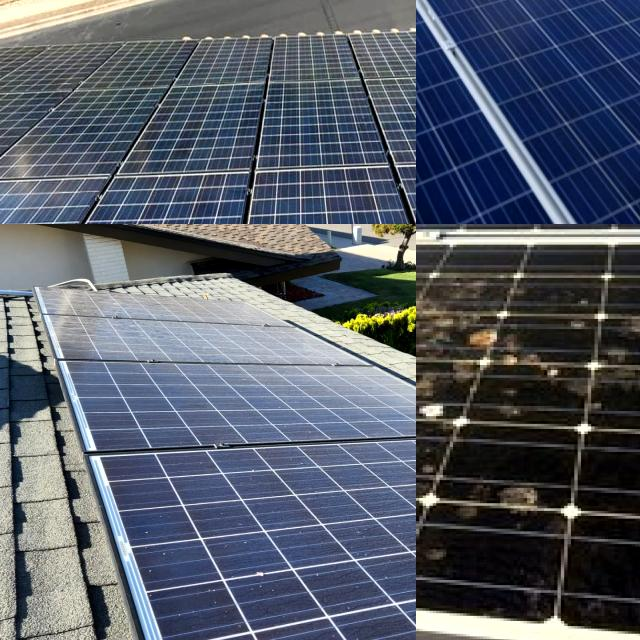bird: (444, 318, 563, 394), (482, 468, 558, 538), (416, 438, 463, 547), (416, 310, 484, 383), (416, 394, 478, 457), (416, 273, 511, 307), (416, 464, 457, 542), (416, 554, 474, 604), (604, 312, 640, 363)
crack: (416, 60, 509, 224), (470, 0, 587, 87), (579, 63, 640, 203), (416, 76, 471, 206), (114, 173, 231, 224), (46, 101, 126, 168), (472, 0, 612, 38), (581, 0, 640, 84), (266, 117, 366, 161), (153, 128, 249, 170), (416, 0, 516, 40), (270, 38, 364, 80), (443, 0, 530, 44), (416, 0, 518, 31), (548, 0, 640, 34), (524, 0, 596, 41), (416, 0, 491, 36), (416, 0, 472, 47), (566, 0, 630, 41), (272, 196, 360, 224), (416, 0, 475, 34), (416, 0, 481, 30), (0, 199, 67, 224), (384, 109, 416, 155)
